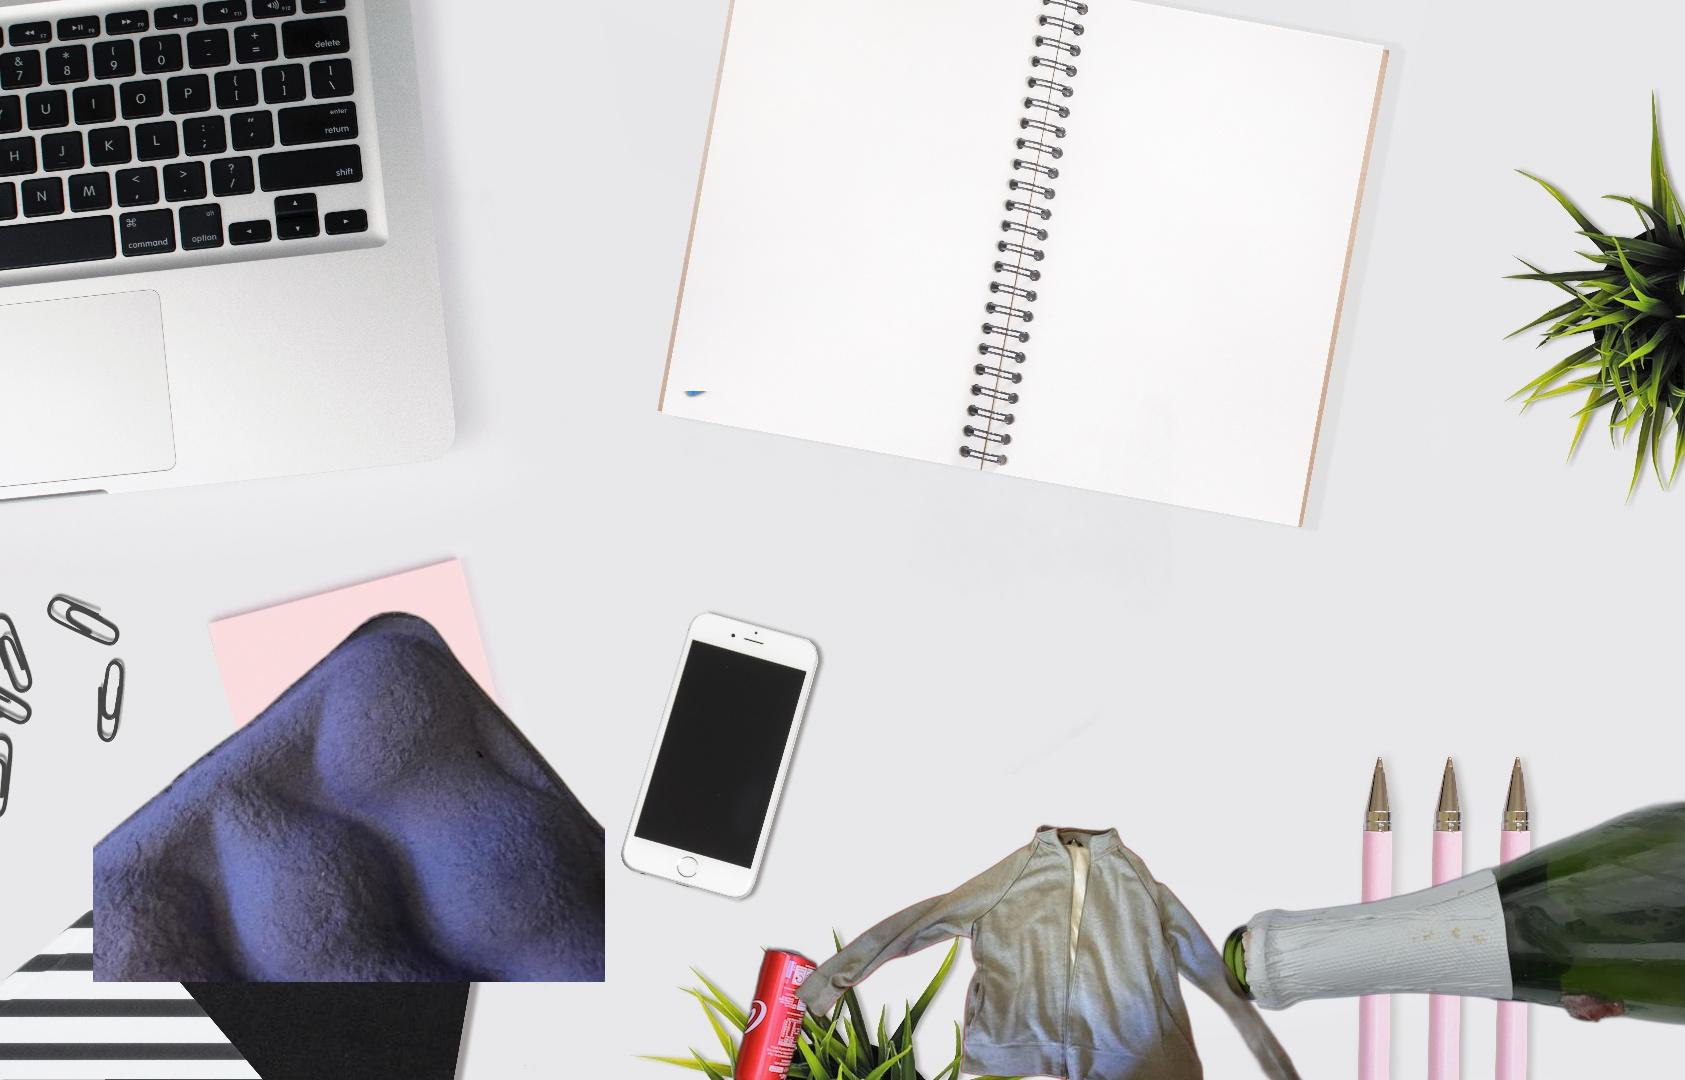clothes: (789, 822, 1318, 1080)
glass: (1218, 784, 1685, 1029)
metal-cans: (729, 943, 821, 1080)
paper: (93, 610, 605, 982)
trashbox-cardboard: (667, 391, 1179, 775)
